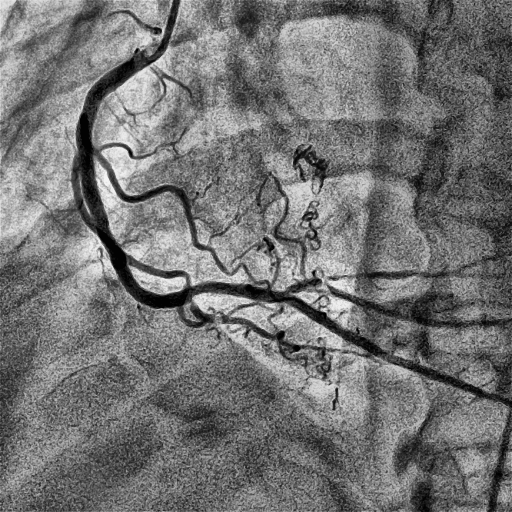pborca: (284, 277, 492, 327)
pda: (282, 294, 512, 406)
rca: (76, 56, 290, 308)
